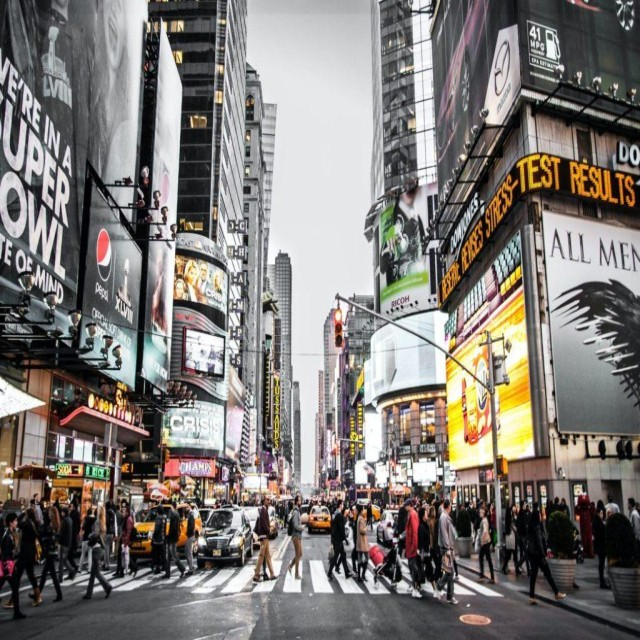pepsi: (96, 225, 116, 280)
